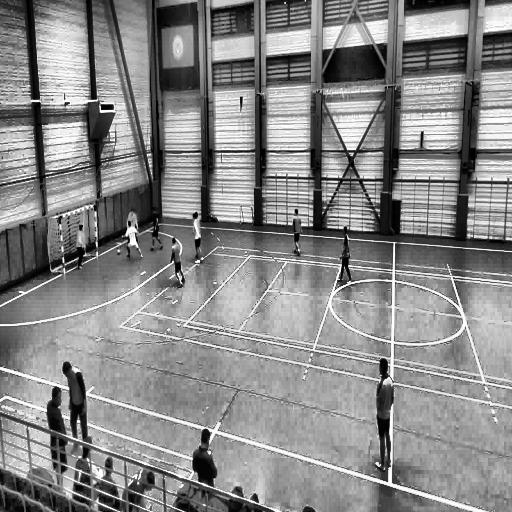ball: (115, 246, 123, 259)
player: (370, 354, 393, 473), (46, 387, 68, 495), (64, 362, 88, 452), (122, 221, 144, 262), (338, 228, 351, 284), (171, 238, 185, 287), (150, 210, 163, 252), (193, 212, 203, 265), (292, 209, 302, 256), (76, 223, 86, 270), (128, 208, 139, 249)
